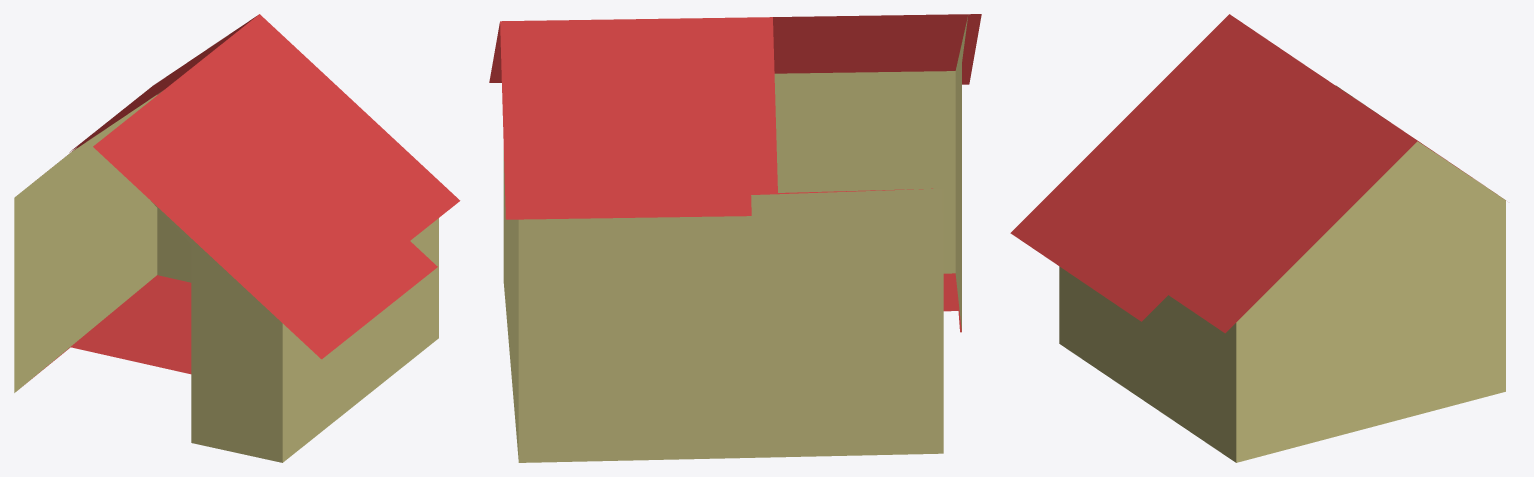
3 renders of one model, left to right at view 1: azimuth 30°, elevation 25°; view 2: azimuth 150°, elevation 25°; view 3: azimuth 270°, elevation 25°, orthographic. The views are drawn at different scales.
Bounding box in the file's own units: 22.72 × 25.72 × 15.53.
